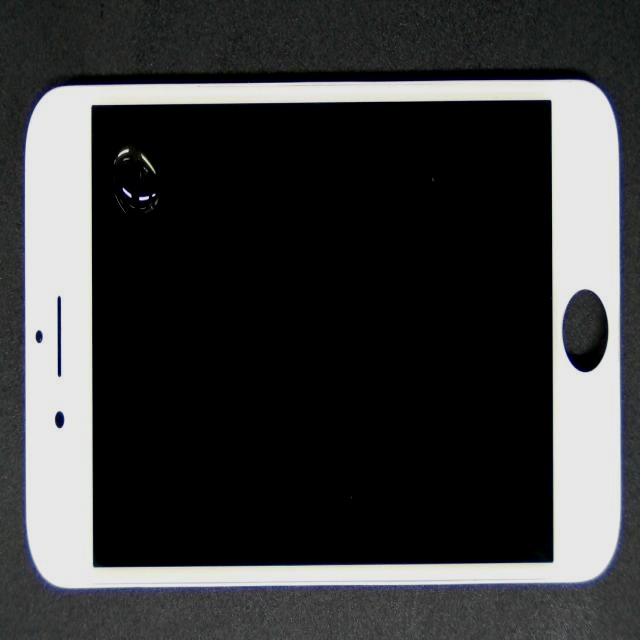oil: (82, 68, 185, 217)
